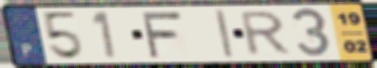1: (90, 10, 119, 61)
3: (290, 5, 334, 61)
5: (38, 10, 87, 61)
F: (138, 10, 184, 59)
I: (213, 8, 237, 60)
R: (239, 10, 295, 58)
